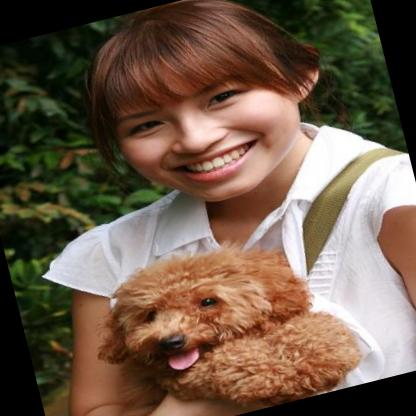toy_poodle: (74, 215, 370, 416)
